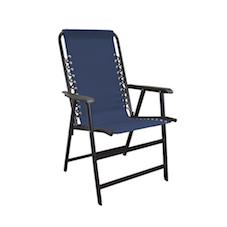chair: (35, 15, 183, 219)
